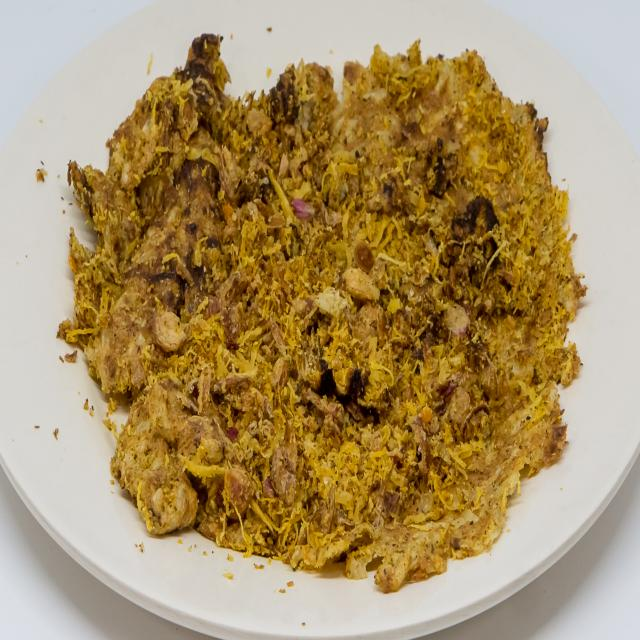Kerak-Telor: (53, 8, 597, 602)
